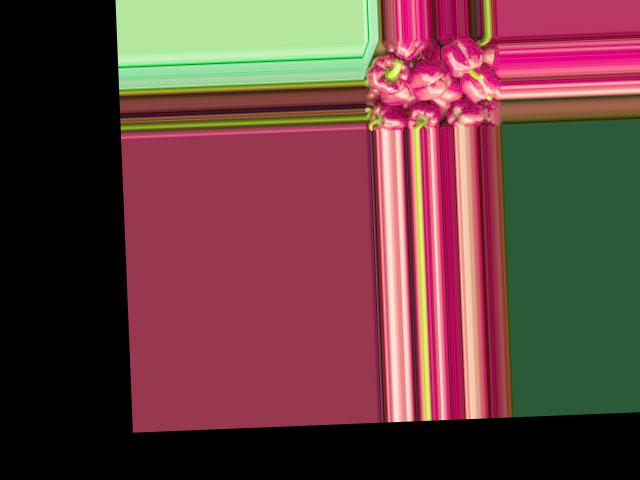bell_pepper: (367, 103, 404, 131)
